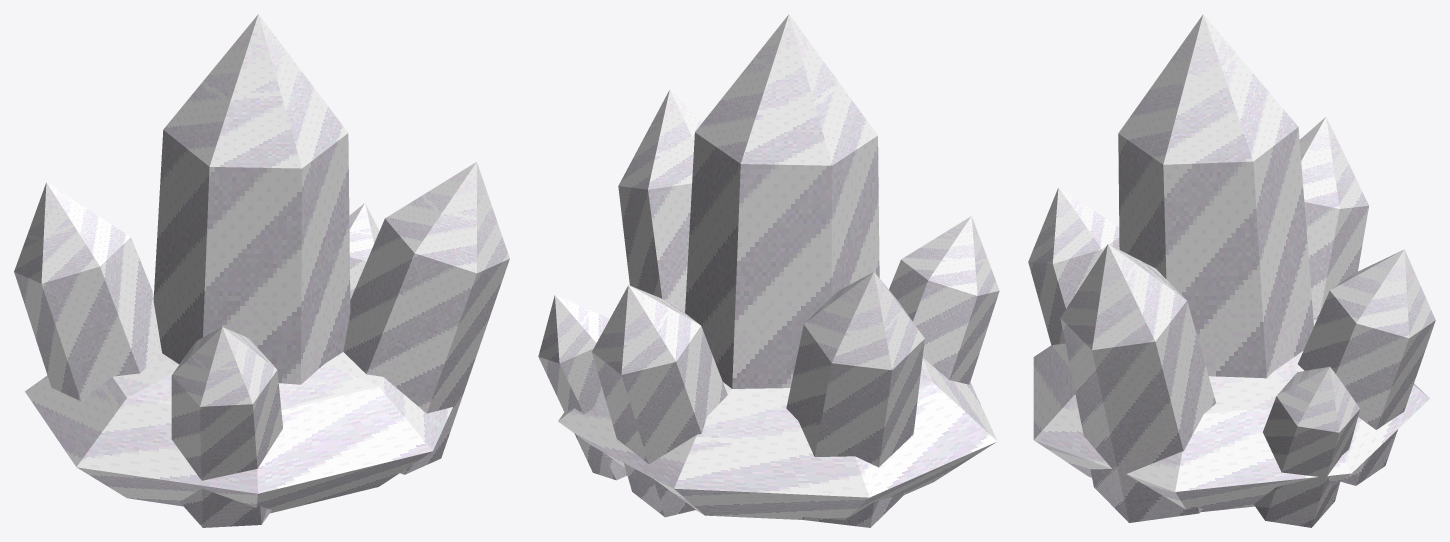
The model's file is quartzo.glb.
3 renders of one model, left to right at view 1: azimuth 30°, elevation 25°; view 2: azimuth 150°, elevation 25°; view 3: azimuth 270°, elevation 25°, orthographic. The views are drawn at different scales.
Visible parts, largest first — view 1: quartzo; view 2: quartzo; view 3: quartzo.
Part boxes in pixels (box(x1,y1,x2,y2)): quartzo: box(14, 14, 509, 527); quartzo: box(538, 14, 999, 527); quartzo: box(1028, 14, 1435, 527).
Size of the model in its own units: 0.8816 by 0.9964 by 0.8114.
1 material, 1 textured.
